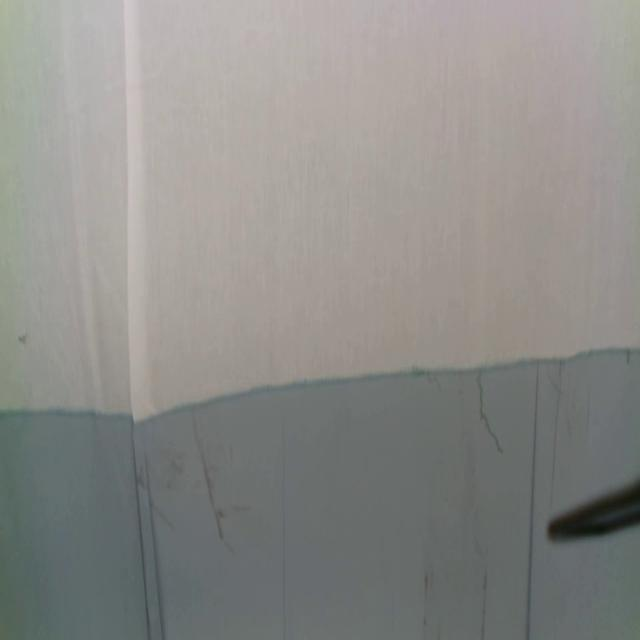crease: (122, 6, 136, 405), (131, 432, 151, 640), (526, 369, 540, 640), (146, 453, 166, 640), (548, 363, 562, 506), (280, 458, 290, 640)
